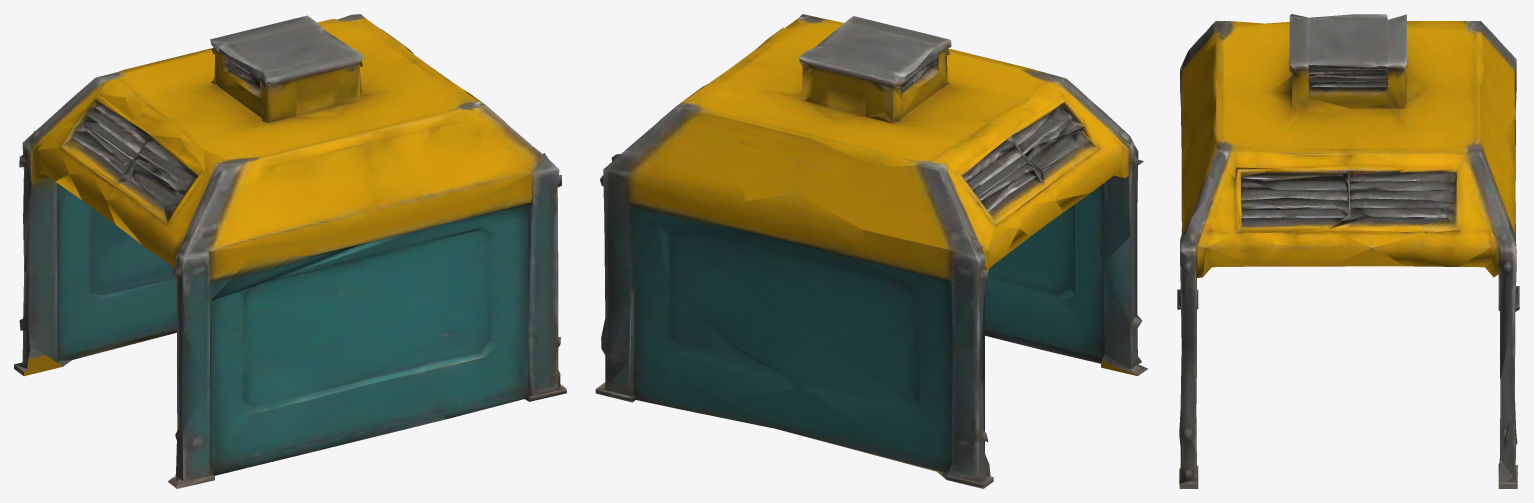
File: paint-booth.glb
3 views of the same model, side by side, from view 1: azimuth 30°, elevation 25°; view 2: azimuth 150°, elevation 25°; view 3: azimuth 270°, elevation 25° (orthographic). The views are drawn at different scales.
Parts seen in each view (by area): view 1: paint-booth-body; view 2: paint-booth-body; view 3: paint-booth-body.
Boxes of the visible parts, box(x1,y1,x2,y2) form: paint-booth-body: box(14, 14, 566, 488); paint-booth-body: box(595, 14, 1147, 488); paint-booth-body: box(1177, 14, 1519, 488).
Bounding box in the file's own units: 2.2 × 1.8 × 1.6.
Materials: 1 (1 with a texture image).
